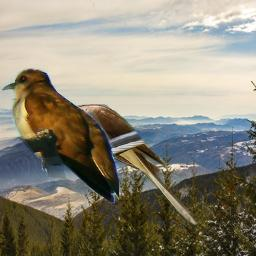Cuckoo: (36, 102, 200, 228), (2, 68, 119, 206)
